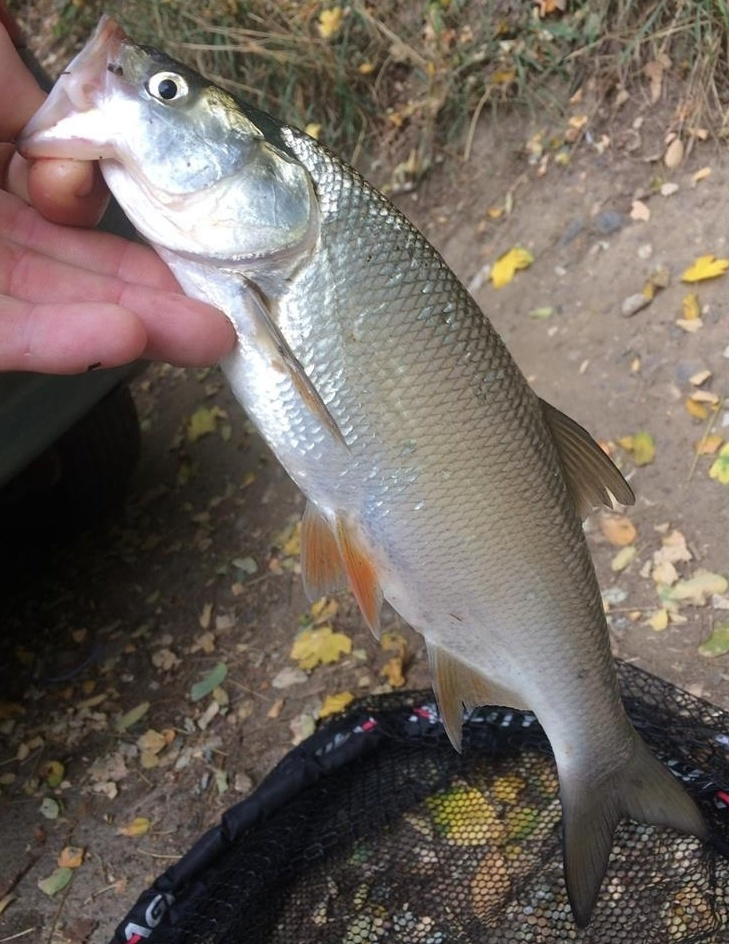Aspius aspius: (20, 20, 709, 924)
